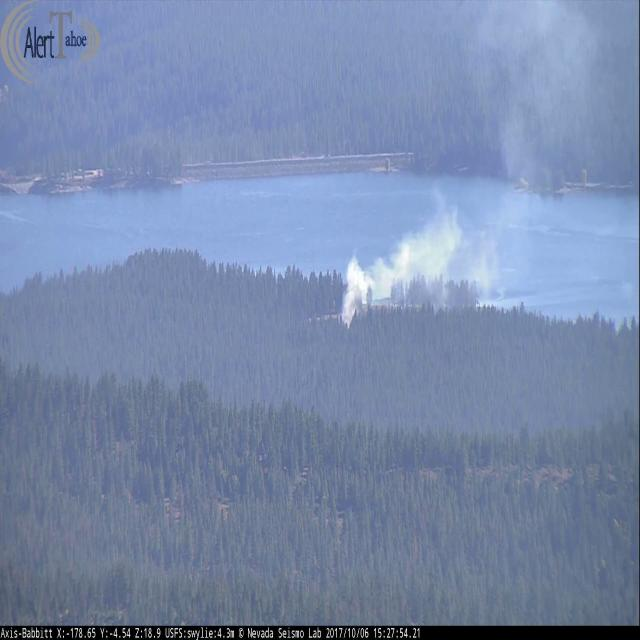smoke: (342, 0, 600, 327)
